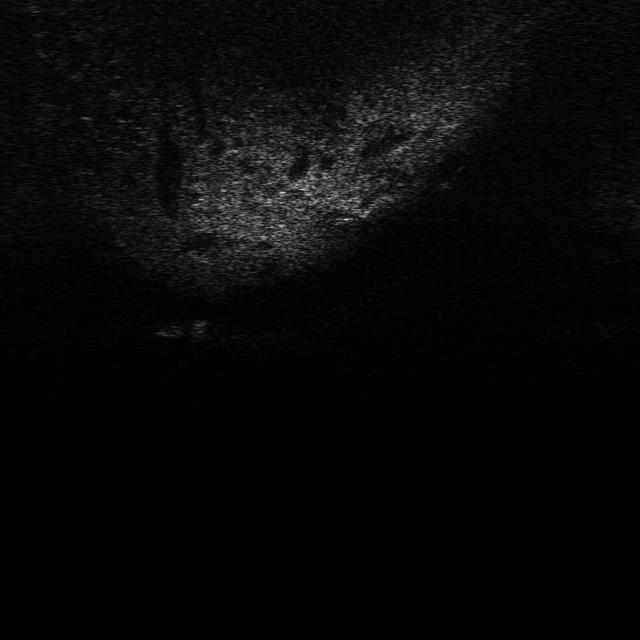cube: (150, 316, 188, 339)
cylinder: (188, 315, 210, 344)
